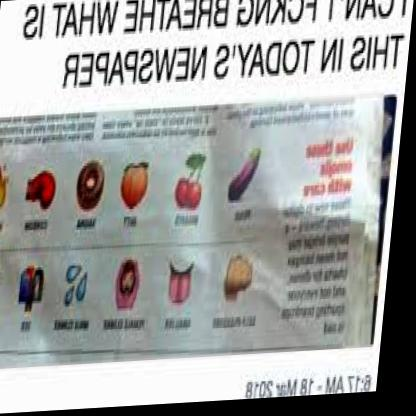Paper: (0, 100, 395, 362)
